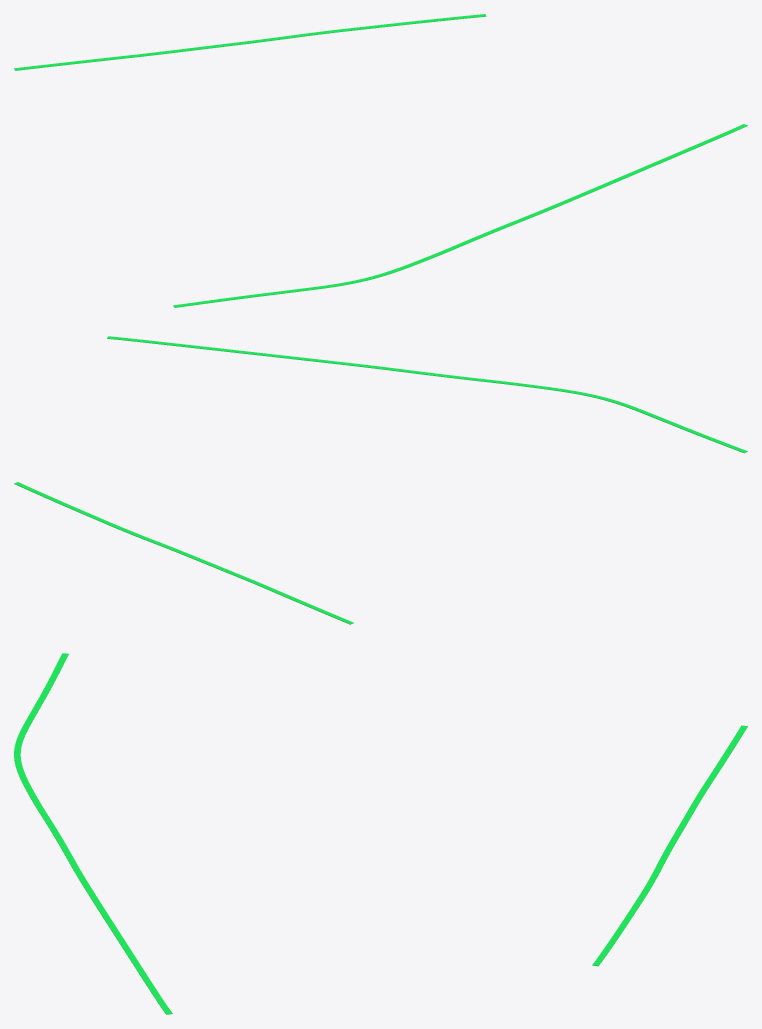
File: InterlagosDrs.glb
3 renders of one model, top to bottom at view 1: azimuth 30°, elevation 25°; view 2: azimuth 150°, elevation 25°; view 3: azimuth 270°, elevation 25°, orthographic. The views are drawn at different scales.
Visible parts, largest first — view 1: DrsStrip_2, DrsStrip_1; view 2: DrsStrip_2, DrsStrip_1; view 3: DrsStrip_2, DrsStrip_1.
Part boxes in pixels (bbox=[...]): DrsStrip_2: bbox=[173, 124, 747, 307]; DrsStrip_1: bbox=[14, 14, 486, 70]; DrsStrip_2: bbox=[107, 336, 747, 453]; DrsStrip_1: bbox=[14, 482, 353, 624]; DrsStrip_2: bbox=[14, 653, 172, 1014]; DrsStrip_1: bbox=[592, 725, 747, 966].
Bounding box in the file's own units: 11.57 × 0.006 × 9.93.
